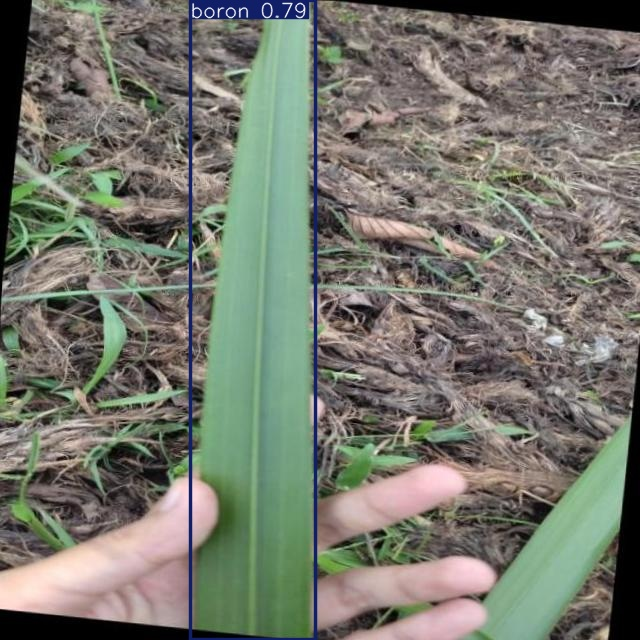nitrogen: (190, 0, 315, 640)
